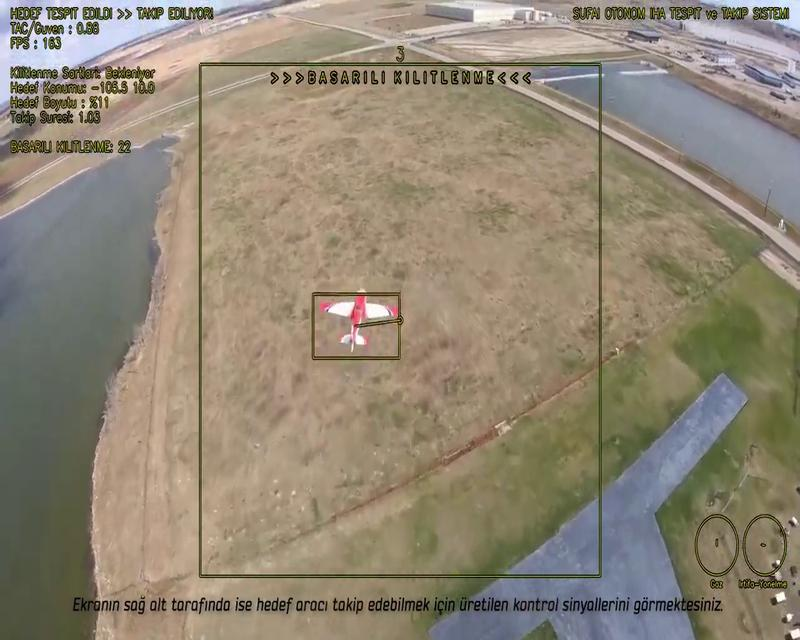UAV: (324, 289, 393, 354)
